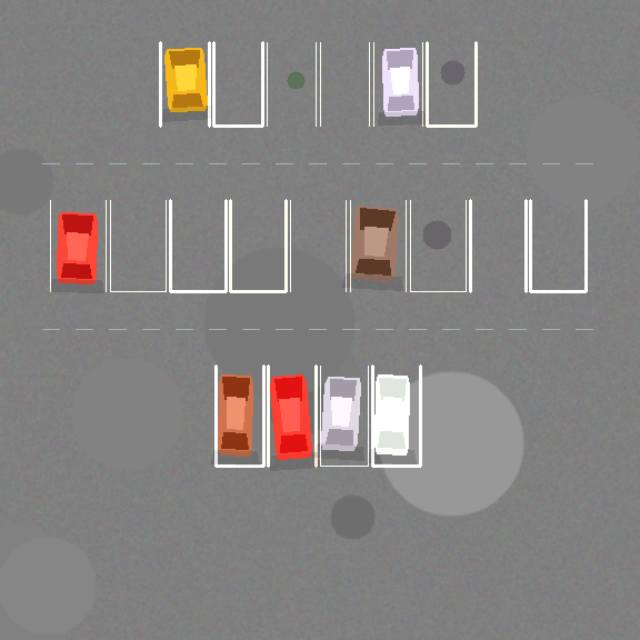space-empty: (110, 200, 166, 291), (170, 200, 226, 291), (230, 200, 286, 291), (290, 200, 346, 291), (410, 200, 466, 291), (470, 200, 526, 291), (530, 200, 586, 291), (213, 42, 262, 126), (267, 42, 316, 126), (320, 42, 369, 126), (427, 42, 476, 126)
space-occupied: (50, 200, 106, 291), (350, 200, 406, 291), (268, 366, 316, 466), (320, 366, 368, 466), (372, 366, 420, 466), (216, 366, 263, 466), (160, 42, 209, 126), (373, 42, 422, 126)
